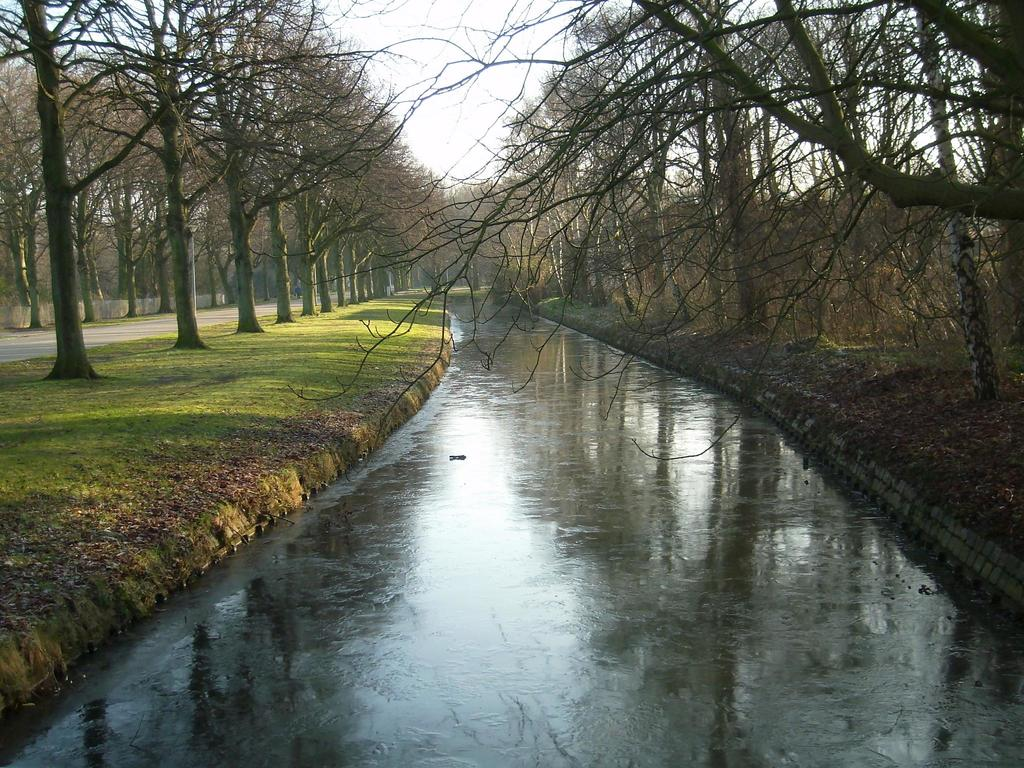Tree: (199, 0, 1023, 468), (0, 0, 452, 408)
